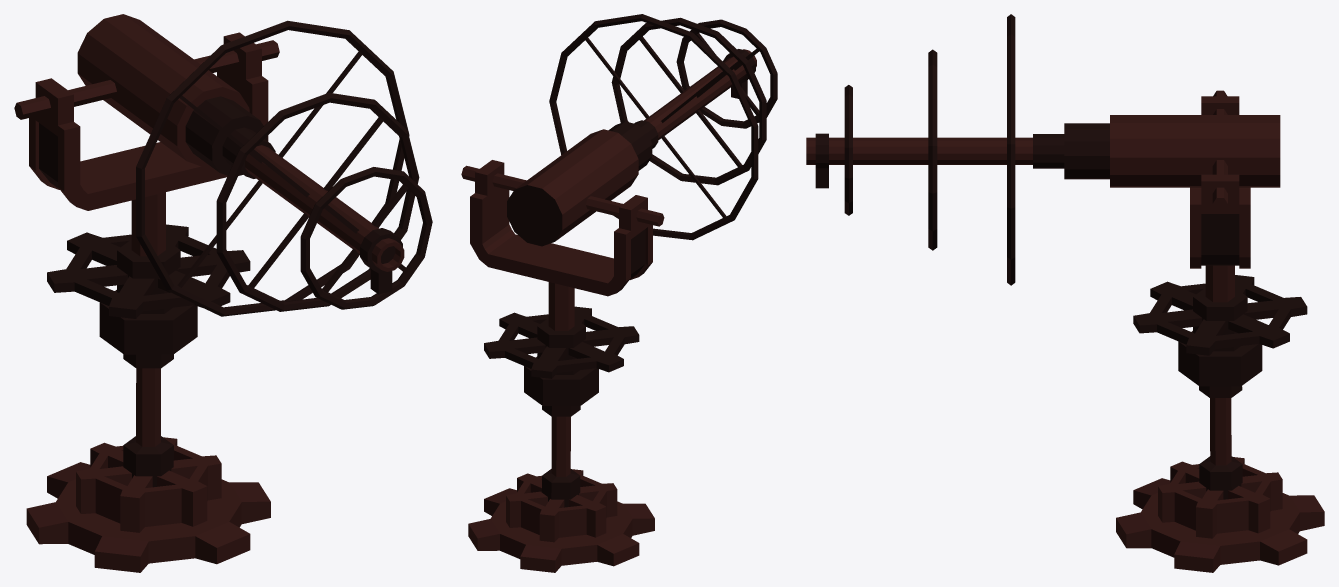
Rendered from Laser_1.obj.
The picture shows the model from 3 angles, left to right: view 1: azimuth 30°, elevation 25°; view 2: azimuth 150°, elevation 25°; view 3: azimuth 270°, elevation 25°; orthographic projection. The views are drawn at different scales.
Visible parts, largest first — view 1: Laser_1_Gun_Cylinder.250, Laser_1_Mid_Cylinder.248, Laser_1_Base_Cylinder.163; view 2: Laser_1_Mid_Cylinder.248, Laser_1_Gun_Cylinder.250, Laser_1_Base_Cylinder.163; view 3: Laser_1_Gun_Cylinder.250, Laser_1_Mid_Cylinder.248, Laser_1_Base_Cylinder.163.
Part boxes in pixels (left/top/right/bottom): Laser_1_Gun_Cylinder.250: left=77, top=14, right=432, bottom=316; Laser_1_Mid_Cylinder.248: left=14, top=32, right=279, bottom=487; Laser_1_Base_Cylinder.163: left=26, top=437, right=270, bottom=572; Laser_1_Mid_Cylinder.248: left=461, top=160, right=664, bottom=507; Laser_1_Gun_Cylinder.250: left=507, top=14, right=777, bottom=246; Laser_1_Base_Cylinder.163: left=468, top=469, right=654, bottom=572; Laser_1_Gun_Cylinder.250: left=806, top=14, right=1280, bottom=285; Laser_1_Mid_Cylinder.248: left=1133, top=90, right=1307, bottom=499; Laser_1_Base_Cylinder.163: left=1116, top=457, right=1324, bottom=572.
Bounding box in the file's own units: 0.9975 × 2.05 × 1.91.
